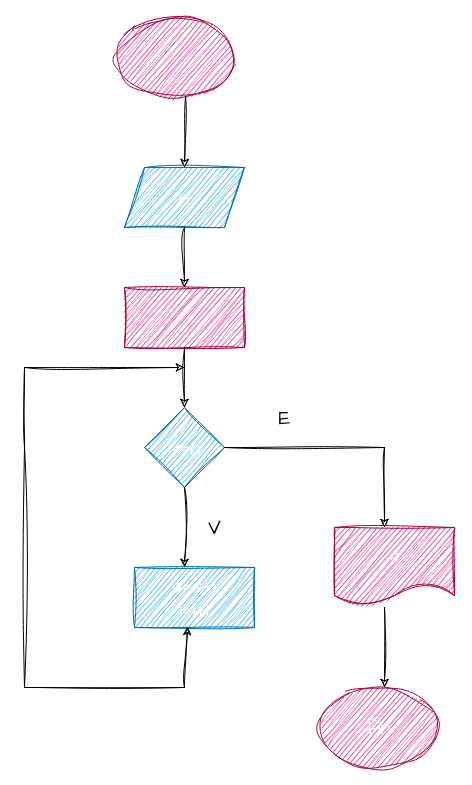
This 472x785 diagram has some shape labels left out. The shapes that lost their labels are listed below. From the top down, each one's centre as x and y in pixels, then its label:
At point (174, 57): "inicio".
At point (184, 317): "s=0 i=1".
